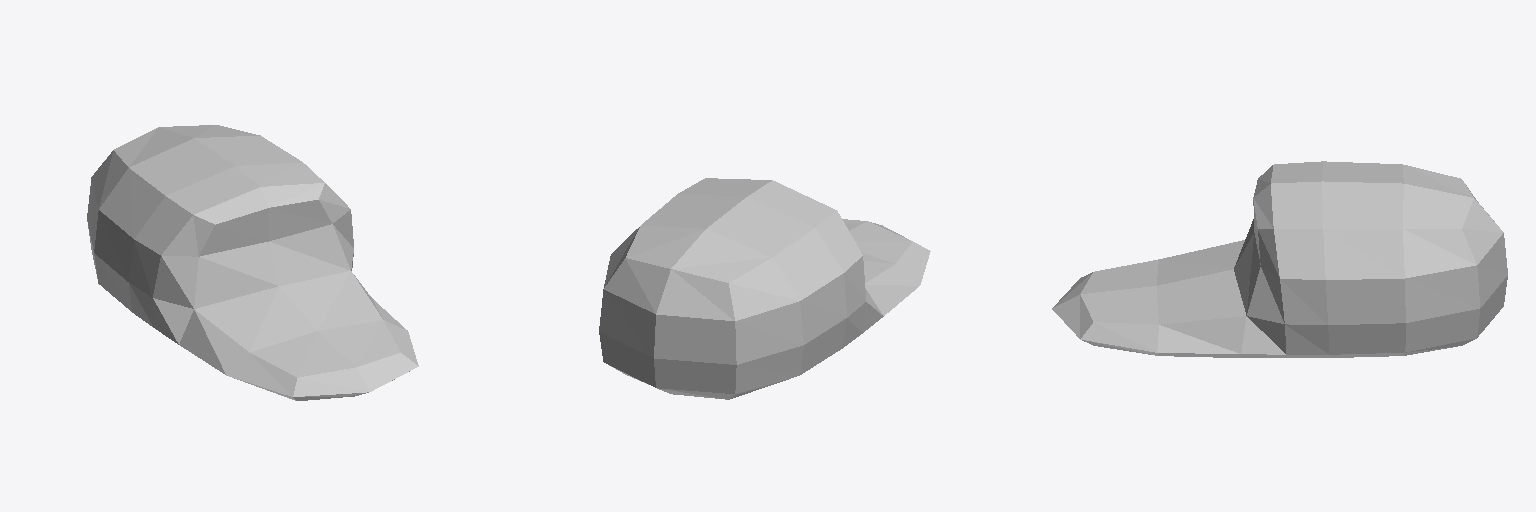
Rendered from WIGhat.obj.
3 views of the same model, side by side, from view 1: azimuth 30°, elevation 25°; view 2: azimuth 150°, elevation 25°; view 3: azimuth 270°, elevation 25° (orthographic).
Parts seen in each view (by area): view 1: Cube; view 2: Cube; view 3: Cube.
Part boxes in pixels (left/top/right/bottom): Cube: left=87, top=125, right=418, bottom=400; Cube: left=599, top=178, right=930, bottom=399; Cube: left=1052, top=161, right=1507, bottom=357.
Size of the model in its own units: 2 by 1.38 by 3.83.